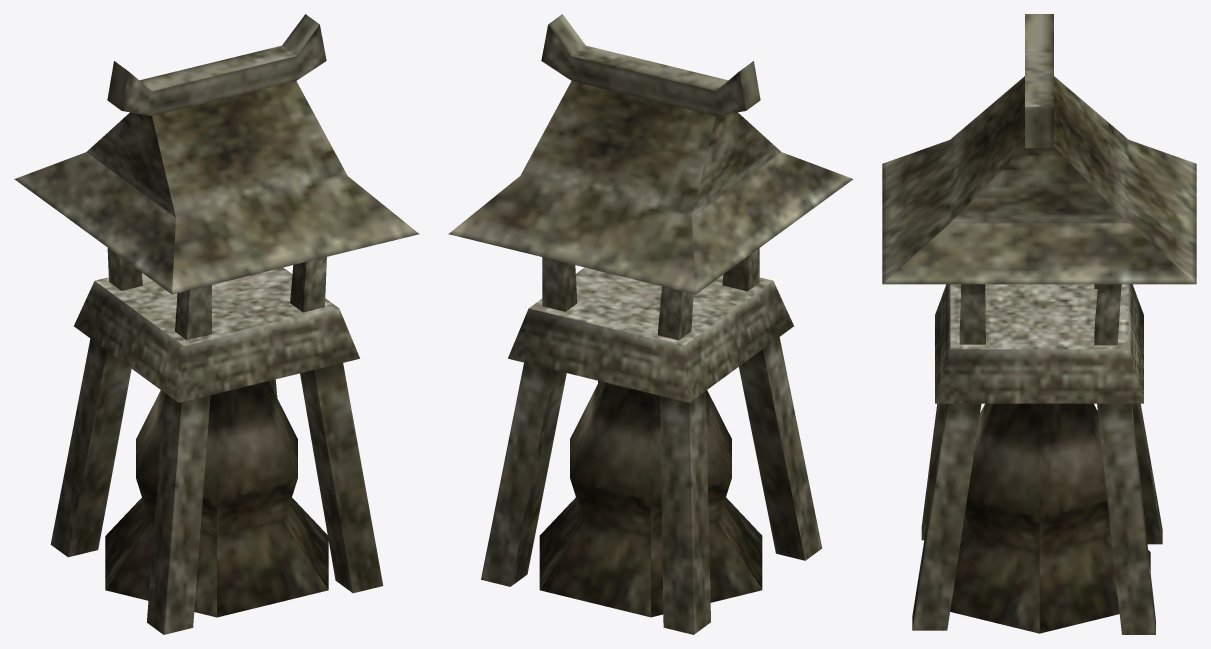
Rendered from general_obj_brazier.fbx.
The picture shows the model from 3 angles, left to right: view 1: azimuth 30°, elevation 25°; view 2: azimuth 150°, elevation 25°; view 3: azimuth 270°, elevation 25°; orthographic projection.
Visible parts, largest first — view 1: Object14; view 2: Object14; view 3: Object14.
Part boxes in pixels (x1,y1,x2,y2): Object14: [14, 14, 419, 634]; Object14: [448, 14, 853, 634]; Object14: [882, 14, 1196, 634].
Bounding box in the file's own units: 0.6386 × 1.29 × 0.7047.
